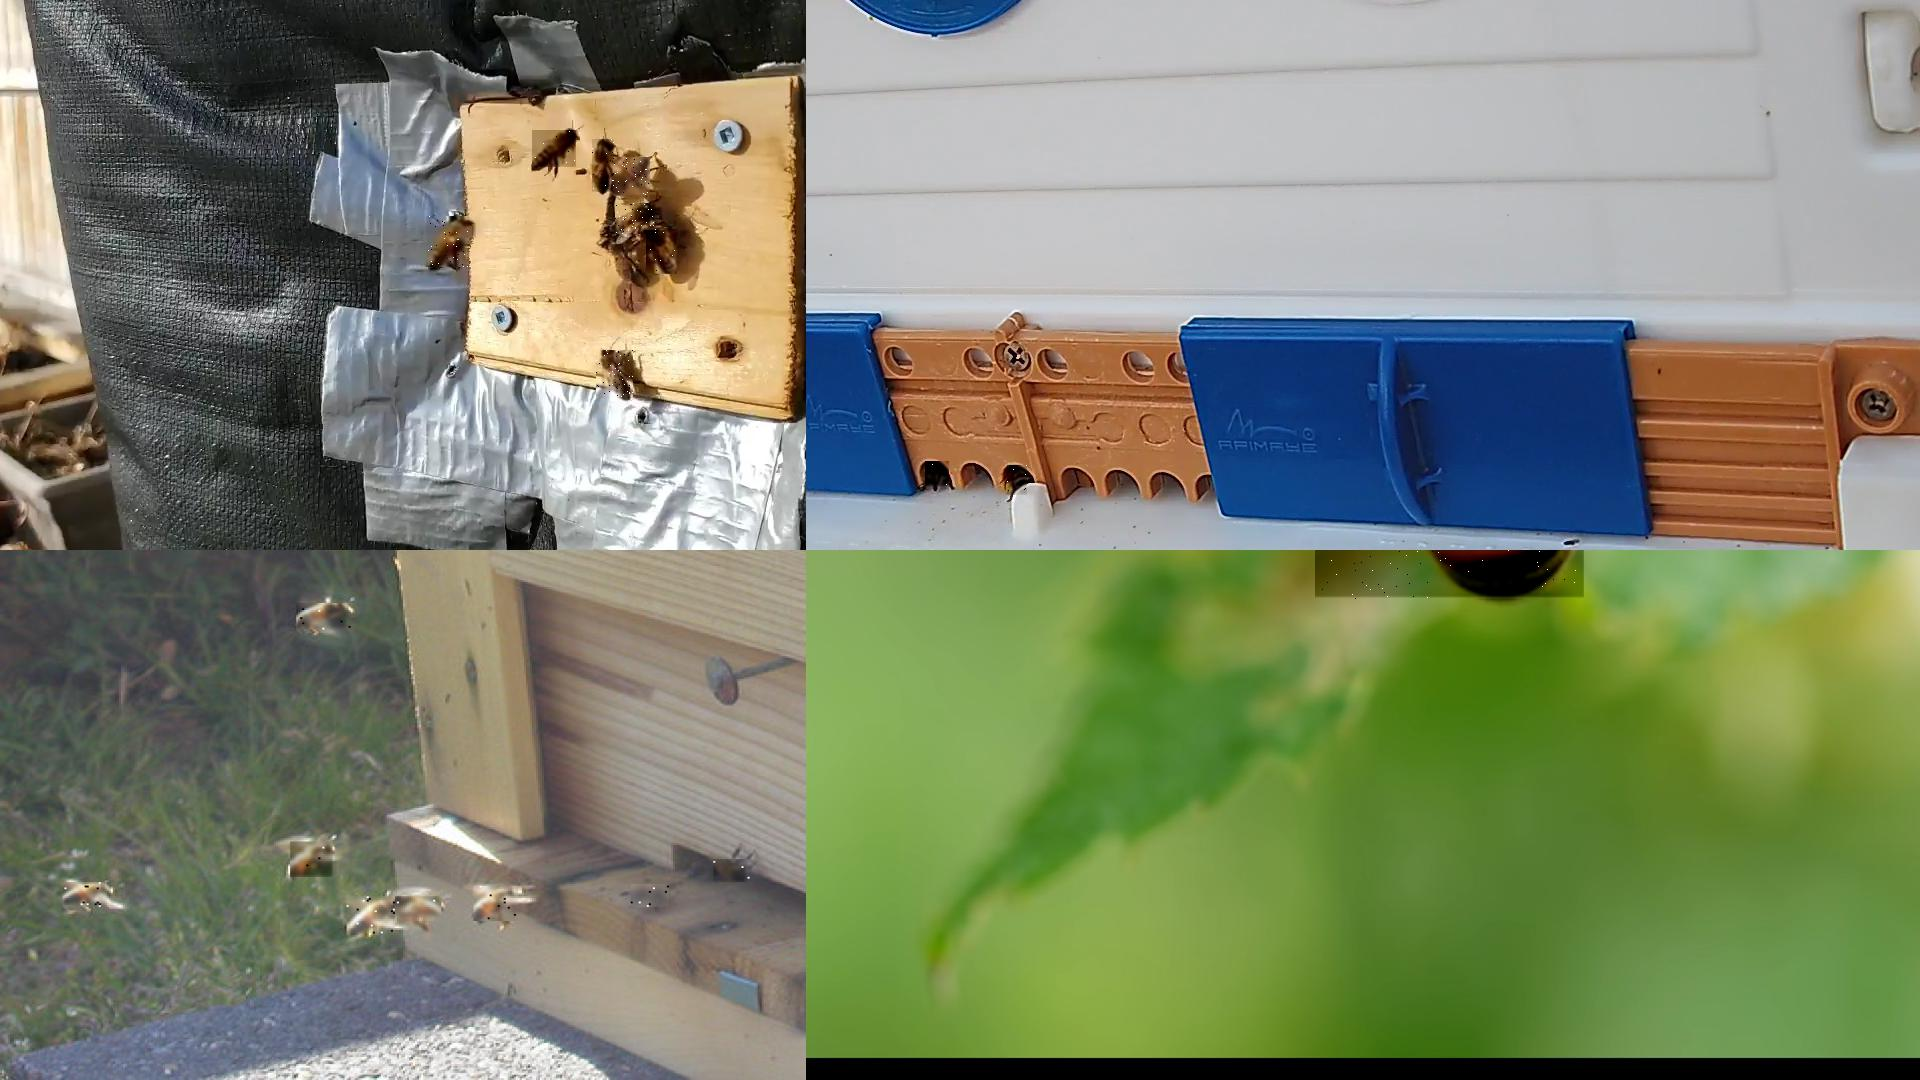bee: (427, 216, 469, 268), (347, 897, 398, 935), (596, 351, 634, 400), (475, 886, 524, 923), (298, 604, 355, 634), (531, 131, 578, 167), (290, 843, 335, 880), (613, 157, 651, 196), (646, 231, 678, 276), (616, 203, 659, 235), (65, 884, 112, 913), (392, 898, 444, 922), (592, 140, 615, 194), (630, 884, 671, 909), (715, 860, 753, 885), (924, 462, 949, 489)
pollenbee: (1007, 465, 1029, 496)
